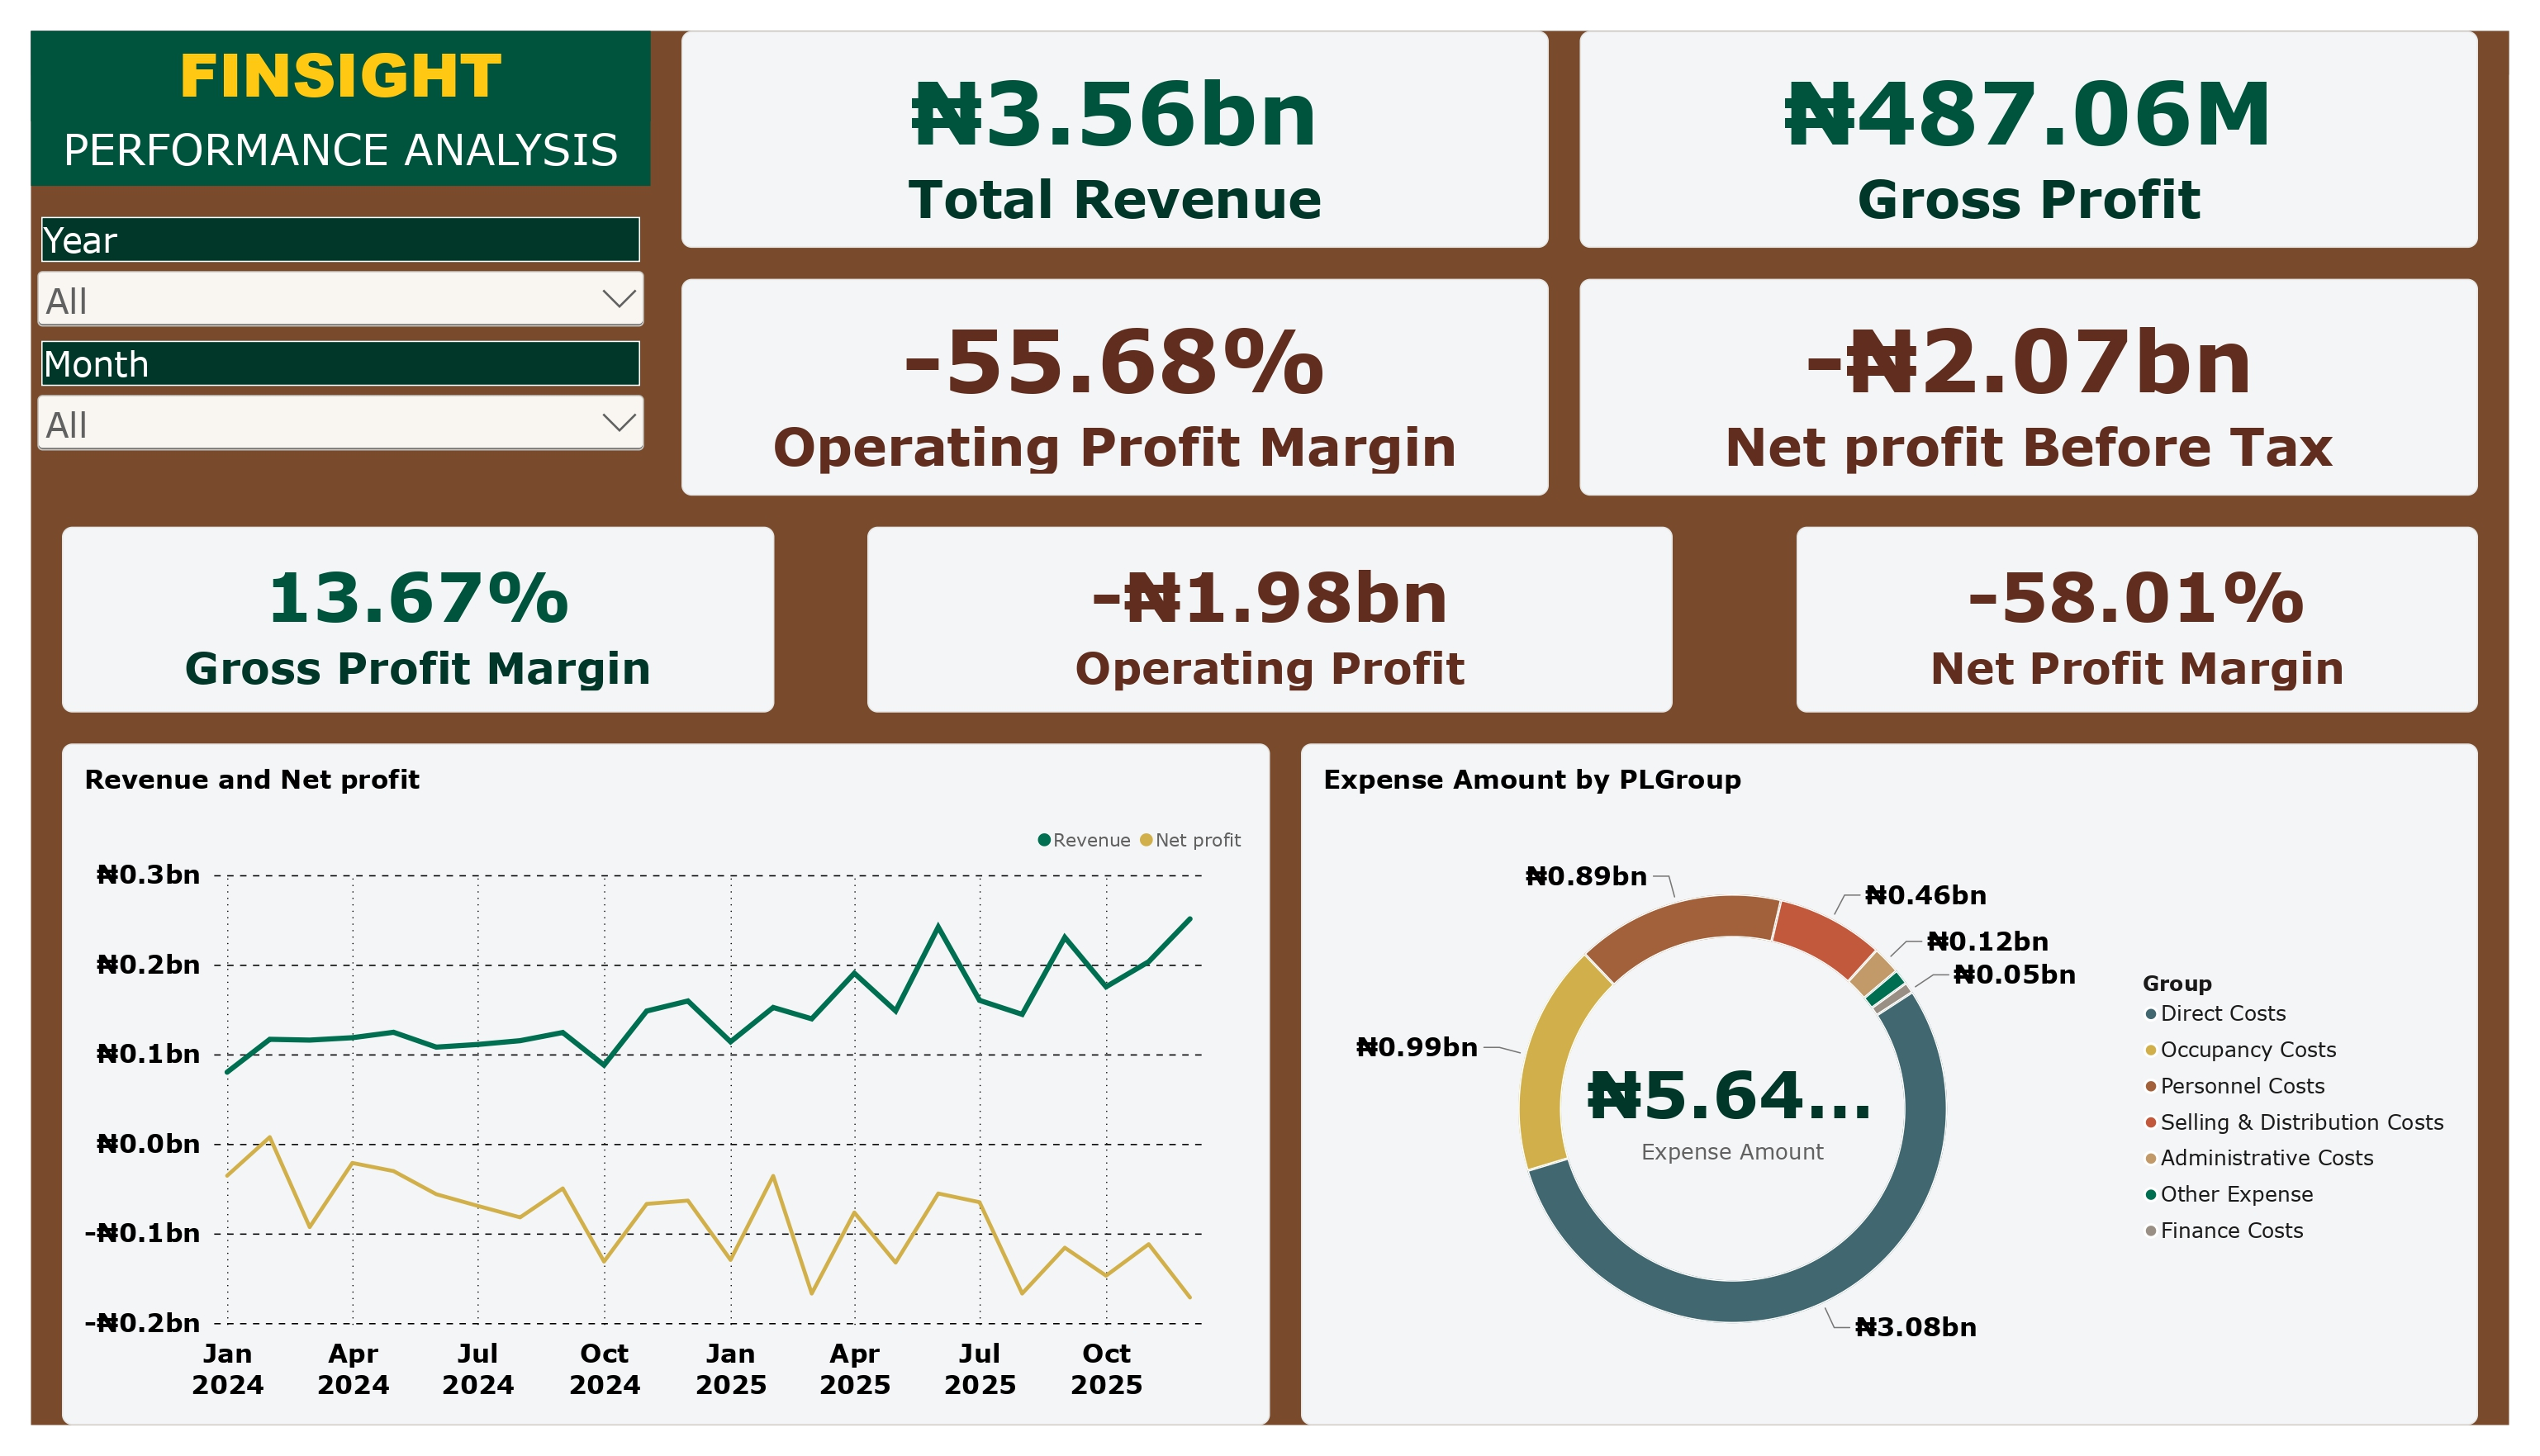

The dashboard page shown, as its layout file describes it:
{"tool":"powerbi","page":{"name":"Executive Overview","canvas":[1920,1080],"ordinal":1},"visuals":[{"type":"card","fields":{"Values":["Dax Measures.Total Revenue"]},"box":[504,0,672,168],"z":0},{"type":"lineChart","title":"Revenue and Net profit","fields":{"Category":["Date.Year-Month"],"Y":["Dax Measures.Revenue","Dax Measures.Net profit"]},"box":[24,552,936,528],"z":1000},{"type":"donutChart","title":"Expense Amount by PLGroup","fields":{"Category":["Account.PL Group"],"Y":["Dax Measures.Expense Amount"]},"box":[984,552,912,528],"z":2000},{"type":"card","fields":{"Values":["Dax Measures.Gross Profit Margin"]},"box":[24,384,552,144],"z":4000},{"type":"card","fields":{"Values":["Dax Measures.Operating Profit Margin"]},"box":[504,192,672,168],"z":5000},{"type":"card","fields":{"Values":["Dax Measures.Net Profit Margin"]},"box":[1368,384,528,144],"z":6000},{"type":"textbox","title":"FINSIGHT","box":[0,0,480,120],"z":7000},{"type":"card","fields":{"Values":["Dax Measures.Gross Profit"]},"box":[1200,0,696,168],"z":8000},{"type":"card","fields":{"Values":["Dax Measures.Operating Profit"]},"box":[648,384,624,144],"z":9000},{"type":"card","fields":{"Values":["Dax Measures.Net profit"]},"box":[1200,192,696,168],"z":10000},{"type":"slicer","fields":{"Values":["Date.Year"]},"box":[0,144,480,144],"z":11000},{"type":"slicer","fields":{"Values":["Date.Month"]},"box":[0,240,480,144],"z":12000}]}

Visuals, with their boxes in screenshot pixels (x1, y1, x2, y2):
card - Dax Measures.Total Revenue: detection(677, 20, 1554, 239)
"Revenue and Net profit" lineChart: detection(51, 740, 1272, 1429)
"Expense Amount by PLGroup" donutChart: detection(1303, 740, 2494, 1429)
card - Dax Measures.Gross Profit Margin: detection(51, 521, 771, 709)
card - Dax Measures.Operating Profit Margin: detection(677, 270, 1554, 490)
card - Dax Measures.Net Profit Margin: detection(1805, 521, 2494, 709)
"FINSIGHT" textbox: detection(20, 20, 646, 177)
card - Dax Measures.Gross Profit: detection(1585, 20, 2494, 239)
card - Dax Measures.Operating Profit: detection(865, 521, 1679, 709)
card - Dax Measures.Net profit: detection(1585, 270, 2494, 490)
slicer - Date.Year: detection(20, 207, 646, 396)
slicer - Date.Month: detection(20, 333, 646, 521)
